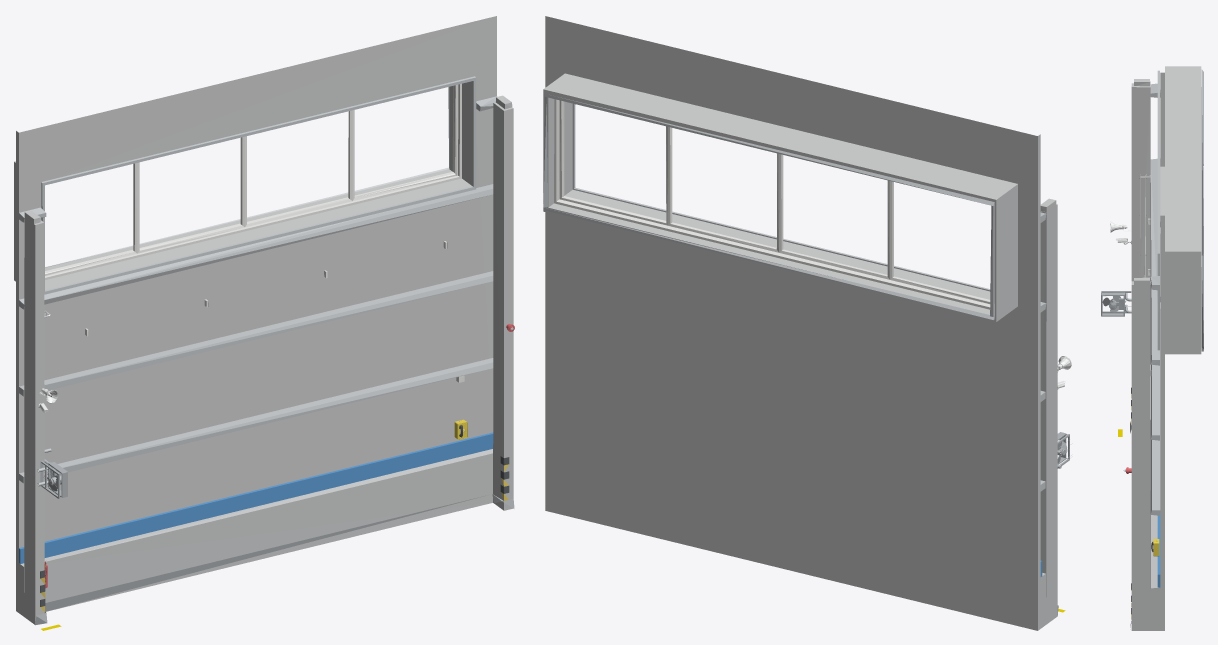
Rendered from galpao-parede-janela.glb.
3 renders of one model, left to right at view 1: azimuth 30°, elevation 25°; view 2: azimuth 150°, elevation 25°; view 3: azimuth 270°, elevation 25°, orthographic. The views are drawn at different scales.
Parts seen in each view (by area): view 1: #e6e9eb, #a3abb1, #1f5fbf, #f2f2ee, #8f979d, #7f878e; view 2: #e6e9eb, #f2f2ee, #a3abb1; view 3: #e6e9eb, #a3abb1, #7f878e, #f2f2ee, #1f5fbf, #f1f3f4.
Part boxes in pixels (bbox=[...]): #e6e9eb: bbox=[14, 16, 513, 624]; #a3abb1: bbox=[19, 76, 497, 483]; #1f5fbf: bbox=[19, 432, 493, 563]; #f2f2ee: bbox=[44, 83, 464, 474]; #8f979d: bbox=[35, 494, 514, 625]; #7f878e: bbox=[40, 461, 67, 498]; #e6e9eb: bbox=[543, 16, 1057, 630]; #f2f2ee: bbox=[554, 99, 990, 309]; #a3abb1: bbox=[543, 93, 1046, 491]; #e6e9eb: bbox=[1131, 66, 1201, 630]; #a3abb1: bbox=[1150, 69, 1203, 515]; #7f878e: bbox=[1101, 291, 1131, 316]; #f2f2ee: bbox=[1126, 174, 1151, 375]; #1f5fbf: bbox=[1157, 513, 1160, 587]; #f1f3f4: bbox=[1110, 221, 1131, 244].
Size of the model in its own units: 10.03 by 9.6 by 2.15.
